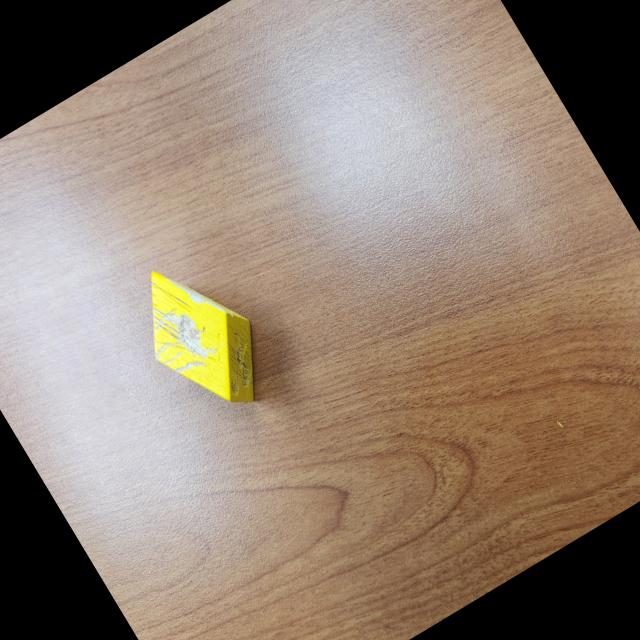broken: (116, 240, 286, 433)
